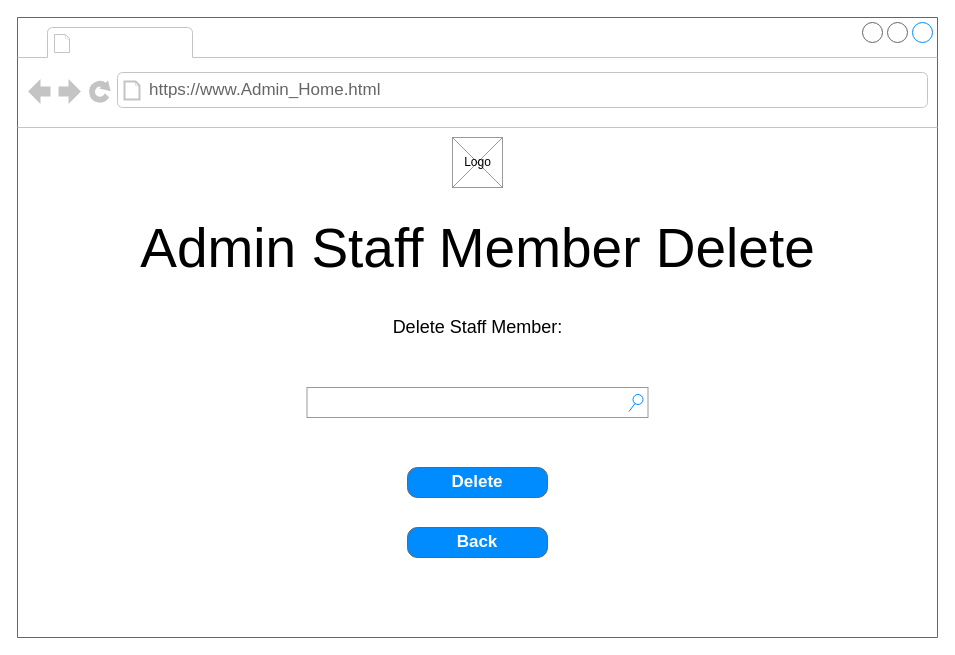
Some shapes in this 955 by 655 pixel diagram are drawn without their labels. The centre of each missing label's shape, as x and y in pixels:
"Page 1" belongs at pixel 132 42.
"Search" belongs at pixel 477 402.
